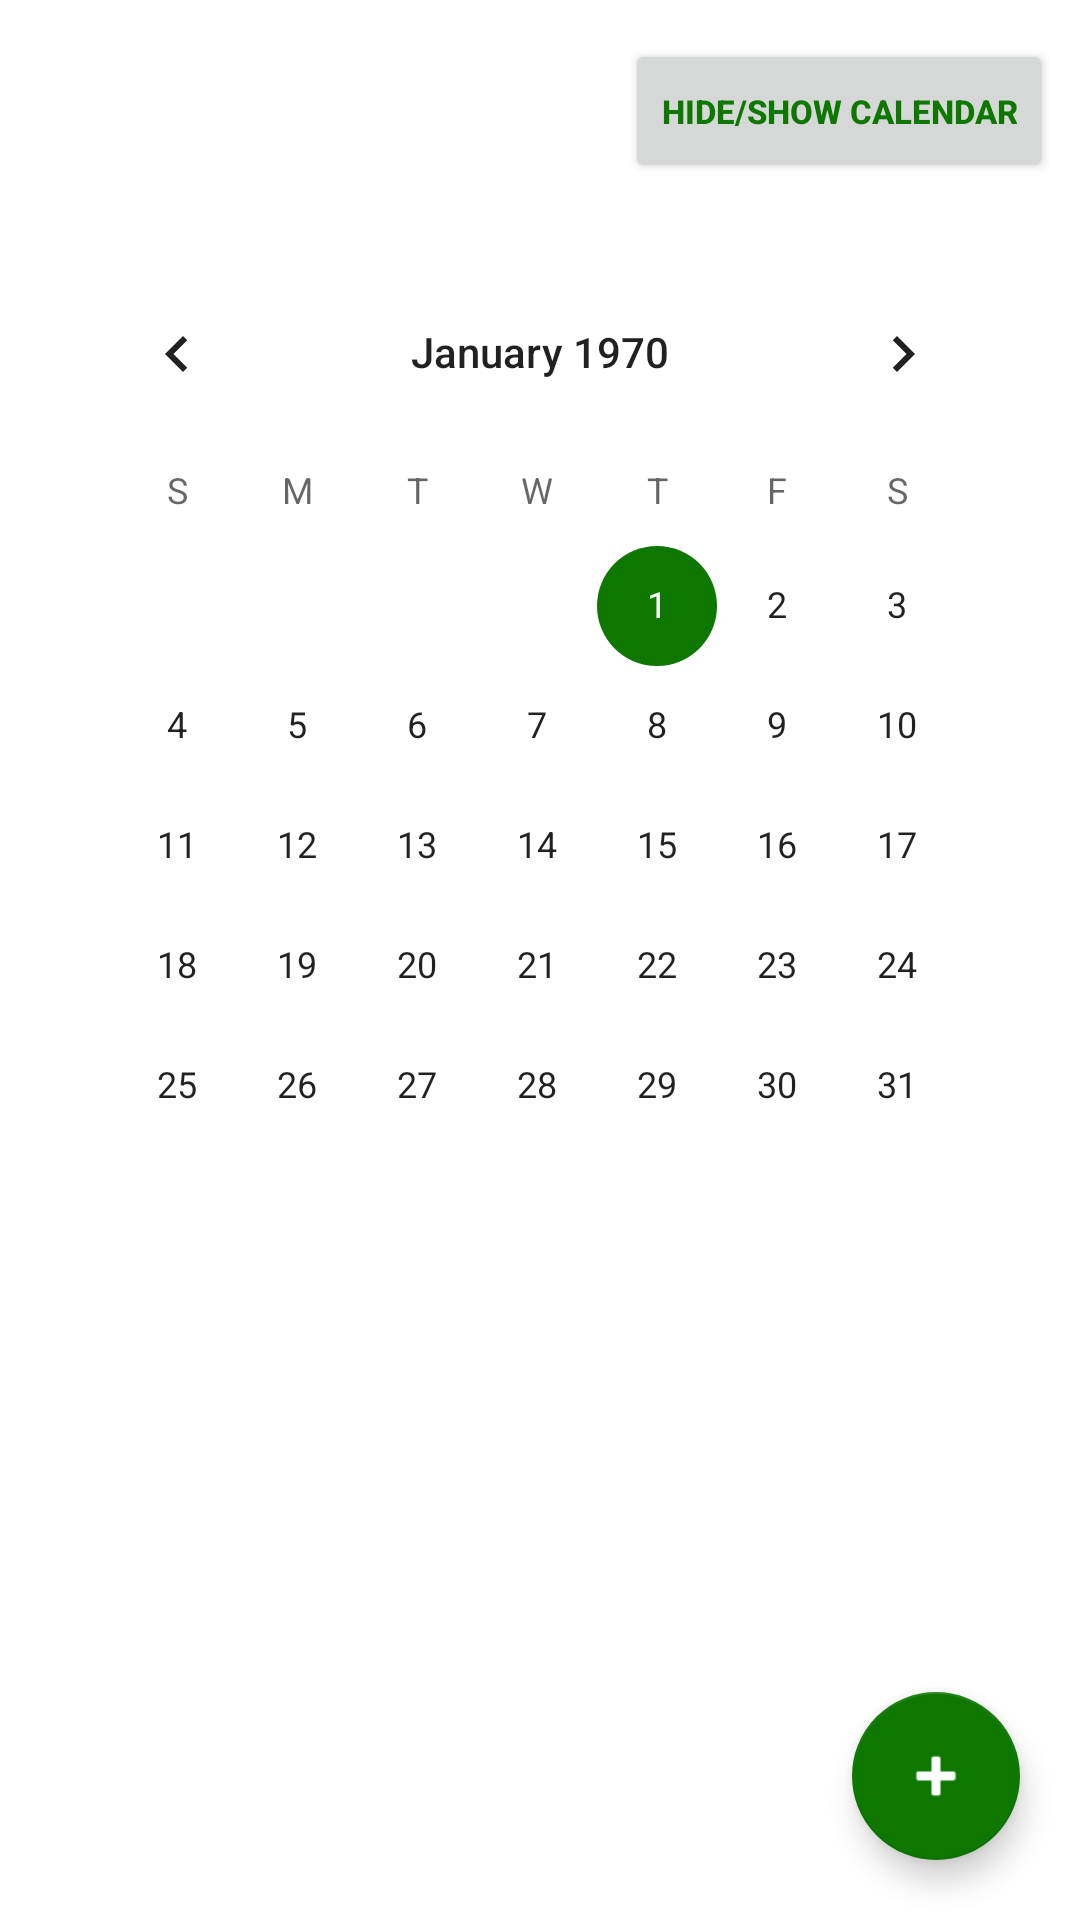

Named icons in this screenshot (1080*1920) and their centers, (x=x, y=y):
Create a game: (x=936, y=1776)
